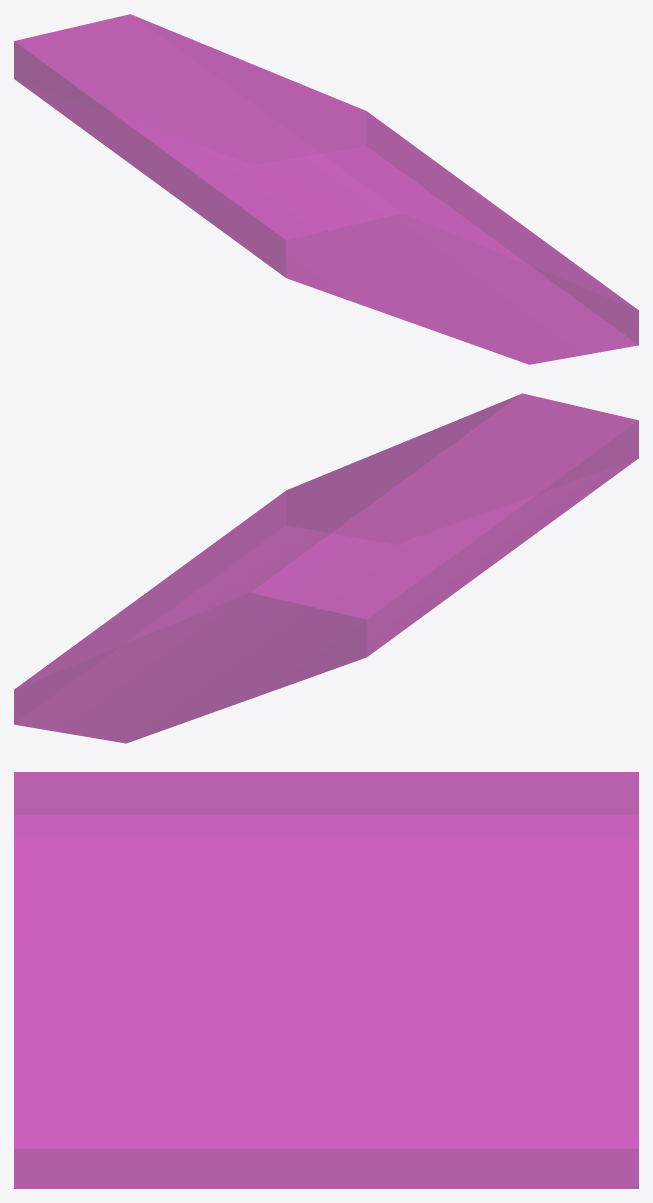
File: SM_Bld_Stairs_Small_01_Collision.fbx
The picture shows the model from 3 angles, top to bottom: view 1: azimuth 30°, elevation 25°; view 2: azimuth 150°, elevation 25°; view 3: azimuth 270°, elevation 25°; orthographic projection. The views are drawn at different scales.
Visible parts, largest first — view 1: SM_Bld_Stairs_Small_01_Collision; view 2: SM_Bld_Stairs_Small_01_Collision; view 3: SM_Bld_Stairs_Small_01_Collision.
Part boxes in pixels (x1=…): SM_Bld_Stairs_Small_01_Collision: x1=14, y1=14, x2=638, y2=364; SM_Bld_Stairs_Small_01_Collision: x1=14, y1=393, x2=638, y2=743; SM_Bld_Stairs_Small_01_Collision: x1=14, y1=772, x2=638, y2=1188.
Size of the model in its own units: 97.4 by 50.42 by 130.
